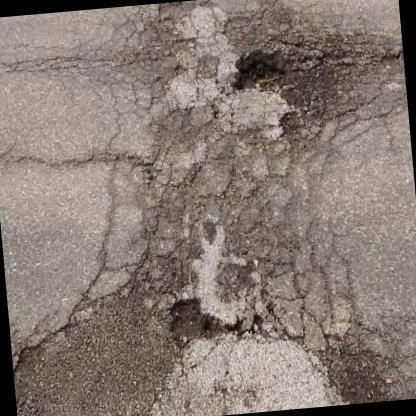pothole: (316, 340, 390, 406), (170, 292, 238, 354), (221, 46, 303, 96)
